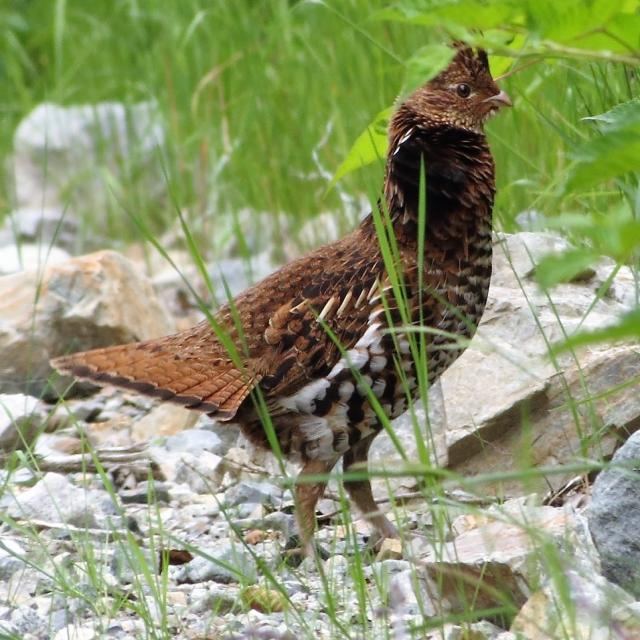bird: (49, 29, 515, 568)
